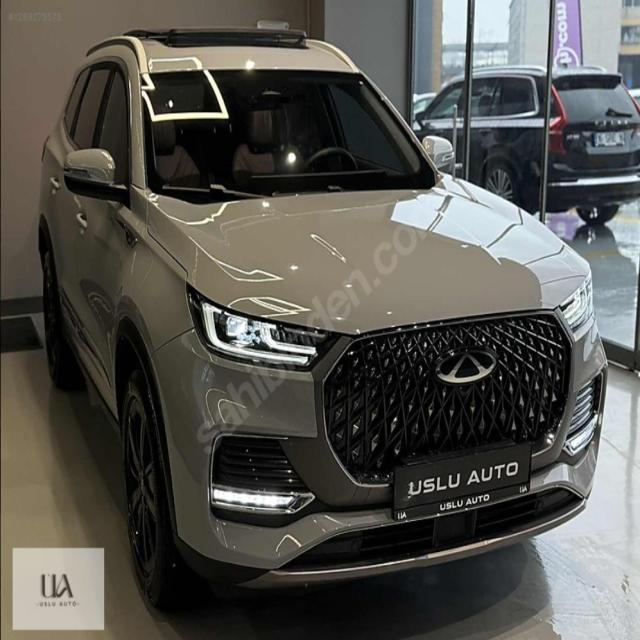cherry: (434, 346, 498, 386)
